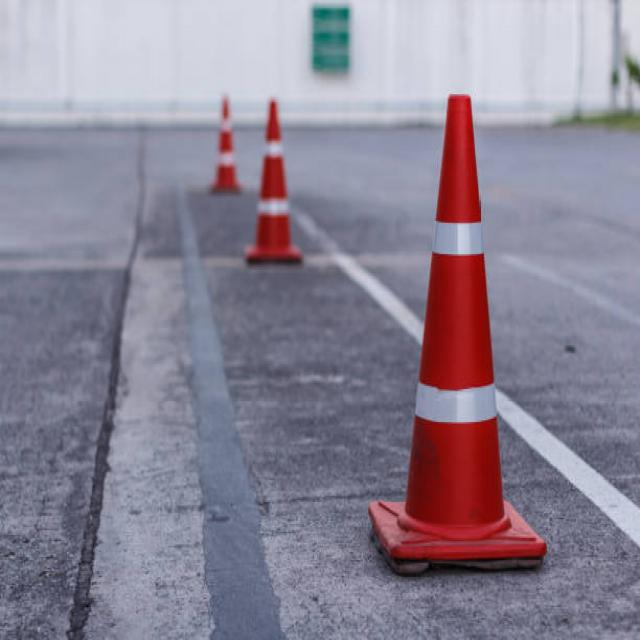reflective_cone: (365, 91, 546, 573), (240, 92, 306, 264), (206, 94, 244, 191)
